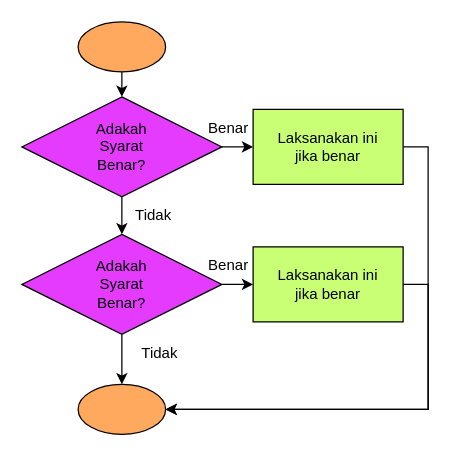
The diagram is 460 pixels wide and 456 high, and some of its shapes have lost their labels. The shapes that lost their labels are listed below. From the top down, each one's box as (x1, y1, x2, y2) in pixels, then its label:
(77, 21, 166, 72): Mula
(77, 383, 166, 434): Tamat
